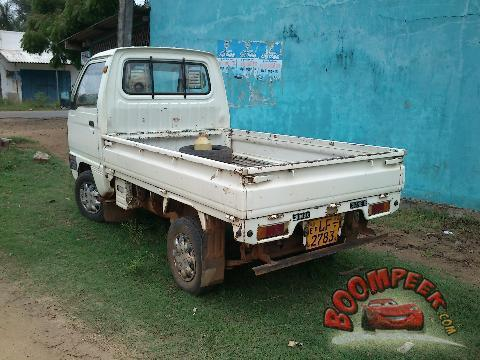license-plate: (307, 216, 342, 248)
